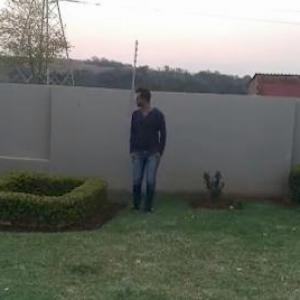follow: (128, 82, 170, 222)
